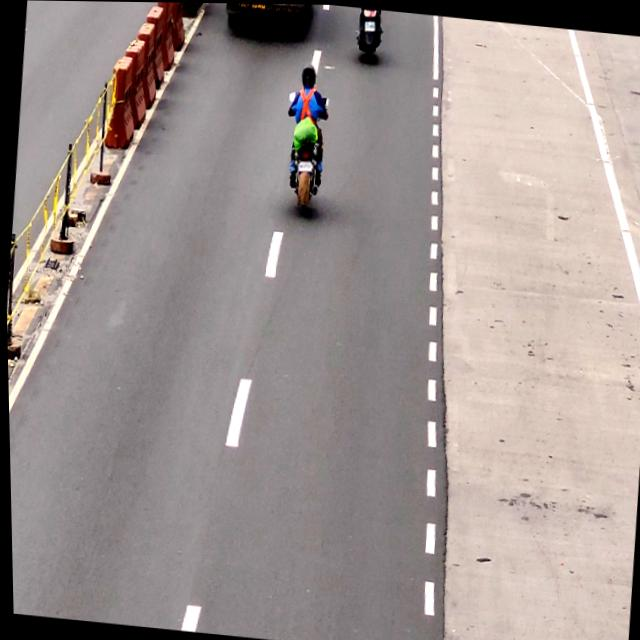License-Plate: (295, 158, 313, 173), (362, 19, 376, 32)
Motorcycle: (281, 62, 332, 216), (354, 6, 382, 58)
